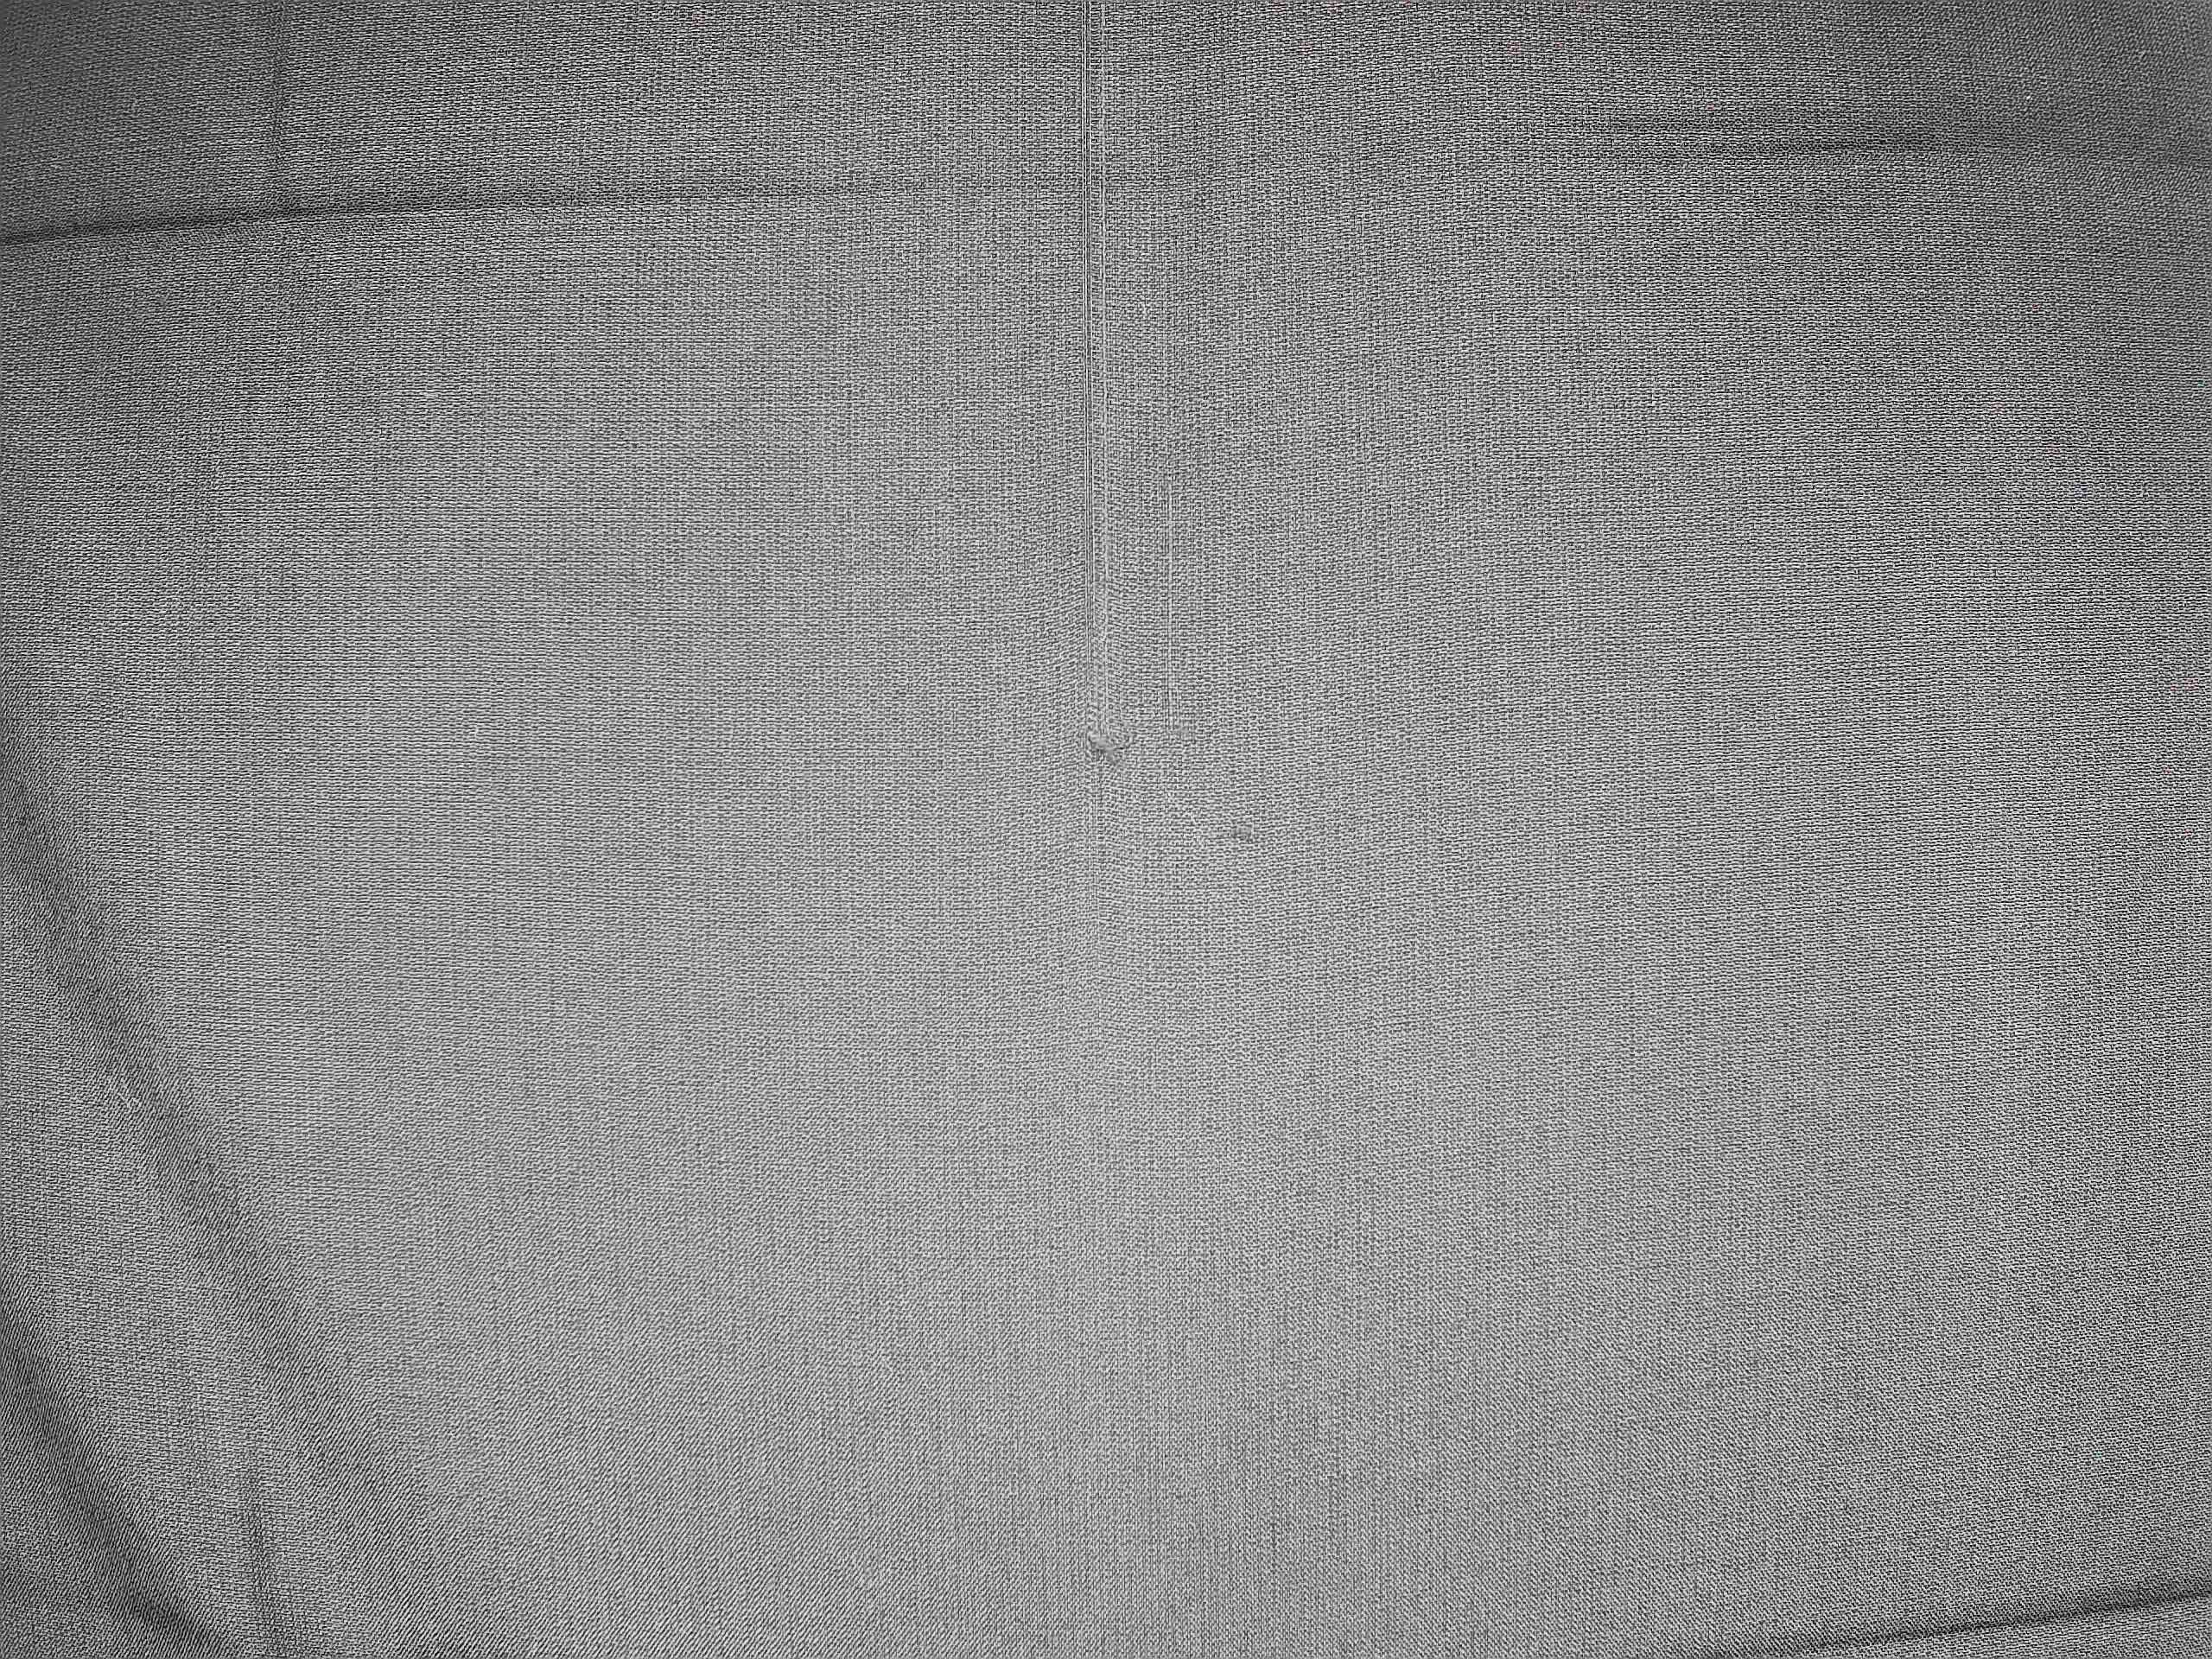hanging-warp: (1061, 3, 1130, 816)
